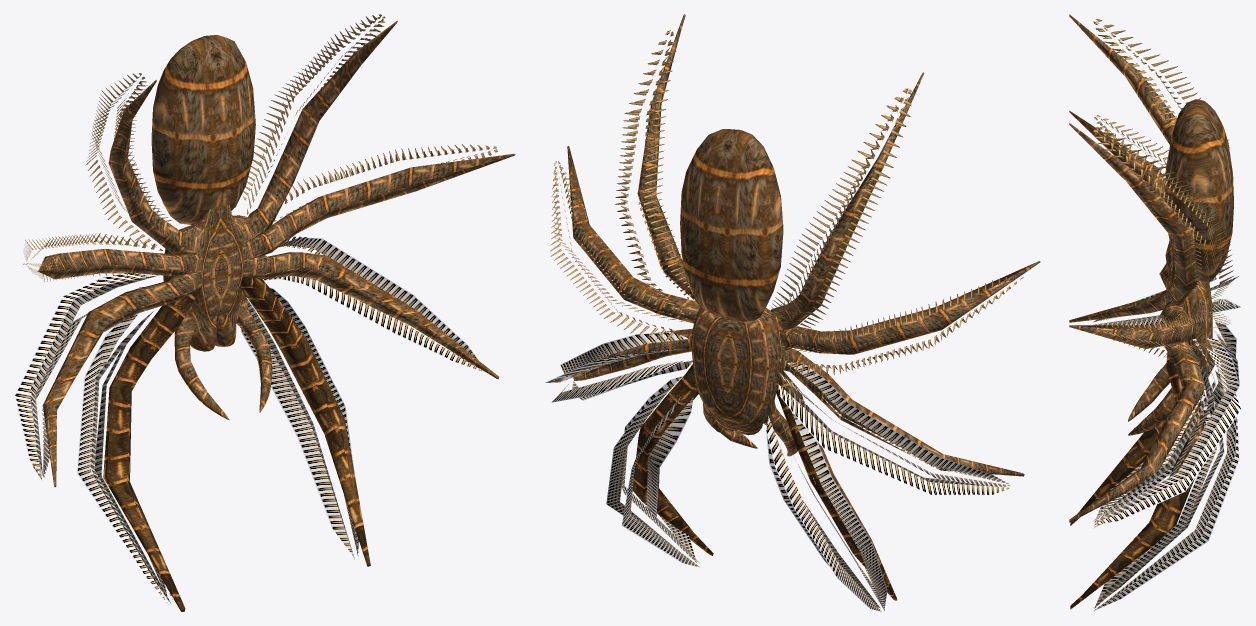
The model's file is spider.obj.
The picture shows the model from 3 angles, left to right: view 1: azimuth 30°, elevation 25°; view 2: azimuth 150°, elevation 25°; view 3: azimuth 270°, elevation 25°; orthographic projection. The views are drawn at different scales.
Visible parts, largest first — view 1: Spider_Spider.005, Spider_Fur_Spider; view 2: Spider_Spider.005, Spider_Fur_Spider; view 3: Spider_Spider.005, Spider_Fur_Spider.
Part boxes in pixels (x1,y1,x2,y2): Spider_Spider.005: [38, 21, 515, 611]; Spider_Fur_Spider: [14, 14, 497, 604]; Spider_Spider.005: [567, 14, 1040, 600]; Spider_Fur_Spider: [545, 30, 1023, 611]; Spider_Spider.005: [1069, 14, 1233, 609]; Spider_Fur_Spider: [1092, 19, 1241, 610].
Size of the model in its own units: 184 by 200 by 62.16.
6 materials, 4 textured.
